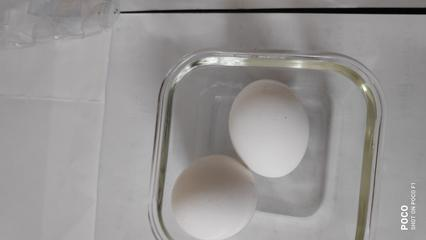eggs: (178, 73, 306, 236)
